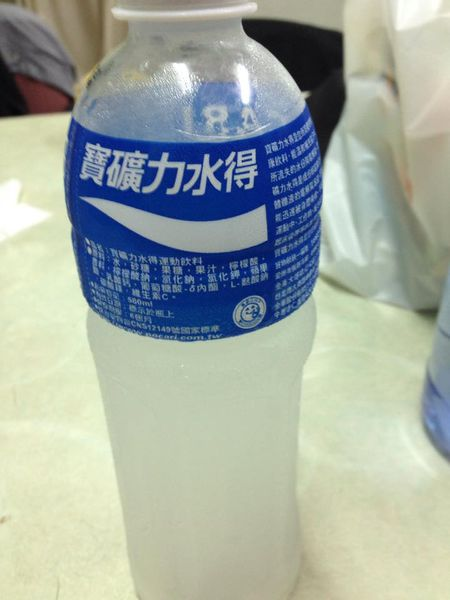POCARI SWEAT: (60, 3, 322, 600)
